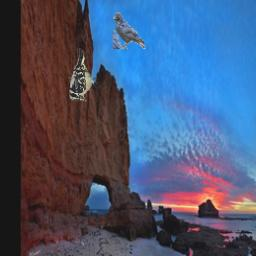Crow: (114, 11, 146, 49)
Woodpecker: (68, 49, 98, 102)
